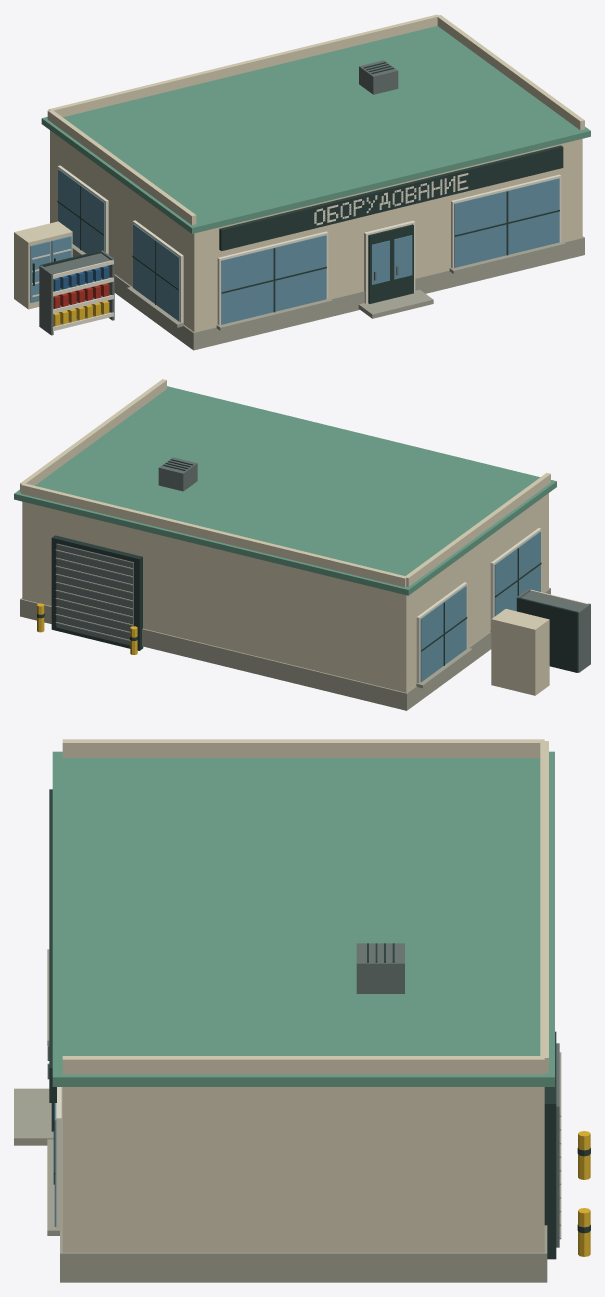
The model's file is EquipmentSupplier.obj.
3 renders of one model, top to bottom at view 1: azimuth 30°, elevation 25°; view 2: azimuth 150°, elevation 25°; view 3: azimuth 270°, elevation 25°, orthographic. The views are drawn at different scales.
Visible parts, largest first — view 1: EquipmentSupplier; view 2: EquipmentSupplier; view 3: EquipmentSupplier.
Boxes of the visible parts, <box> form: EquipmentSupplier: <box>14,14,590,350</box>; EquipmentSupplier: <box>14,379,590,710</box>; EquipmentSupplier: <box>14,739,590,1282</box>.
Size of the model in its own units: 17.53 by 5.06 by 10.77.
